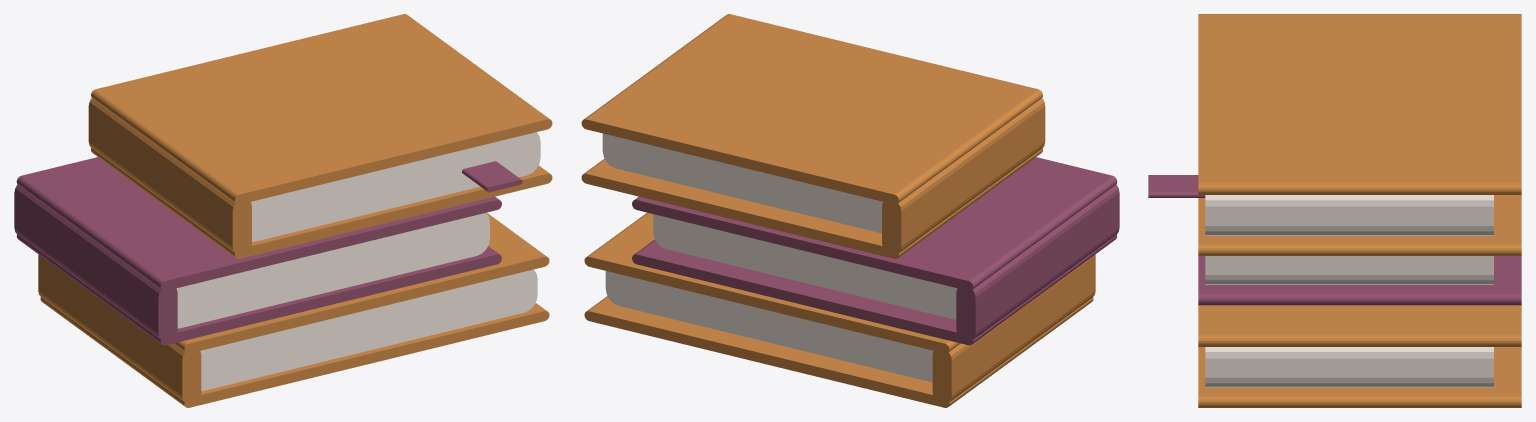
File: books.glb
The picture shows the model from 3 angles, left to right: view 1: azimuth 30°, elevation 25°; view 2: azimuth 150°, elevation 25°; view 3: azimuth 270°, elevation 25°; orthographic projection. The views are drawn at different scales.
Parts seen in each view (by area): view 1: cover 2 0.175, cover 1 0.175, pages 0, pages 1, pages 2, spine 2, spine 1, spine 0, cover 0 0.175, cover 0 0, cover 1 0, cover 2 0 (+1 smaller); view 2: cover 2 0.175, cover 1 0.175, pages 0, pages 1, pages 2, cover 0 0, spine 1, cover 1 0, spine 2, cover 2 0, spine 0, cover 0 0.175; view 3: cover 2 0.175, cover 0 0.175, pages 0, pages 2, pages 1, cover 0 0, cover 2 0, cover 1 0, ribbon.
Boxes of the visible parts, x1,y1,x2,y2 form: cover 2 0.175: (91,14,552,204); cover 1 0.175: (16,157,501,290); pages 0: (200,269,537,390); pages 1: (176,213,489,328); pages 2: (251,132,540,241); spine 2: (88,98,251,254); spine 1: (14,184,177,341); spine 0: (38,254,201,403); cover 0 0.175: (173,212,549,353); cover 0 0: (40,297,549,407); cover 1 0: (16,234,501,345); cover 2 0: (91,148,552,258); cover 2 0.175: (581,14,1042,204); cover 1 0.175: (632,157,1117,290); pages 0: (605,271,933,382); pages 1: (653,214,957,319); pages 2: (602,133,882,233); cover 0 0: (584,296,1093,407); spine 1: (956,184,1119,341); cover 1 0: (632,234,1117,345); spine 2: (882,98,1045,254); cover 2 0: (581,148,1042,258); spine 0: (932,254,1095,403); cover 0 0.175: (584,212,960,353); cover 2 0.175: (1198,14,1521,194); cover 0 0.175: (1198,305,1521,346); pages 0: (1205,347,1493,387); pages 2: (1205,195,1493,235); pages 1: (1205,256,1493,284); cover 0 0: (1198,347,1521,407); cover 2 0: (1198,195,1521,255); cover 1 0: (1198,256,1521,305); ribbon: (1148,175,1205,197).
Size of the model in its own units: 1.33 by 0.647 by 0.97.
